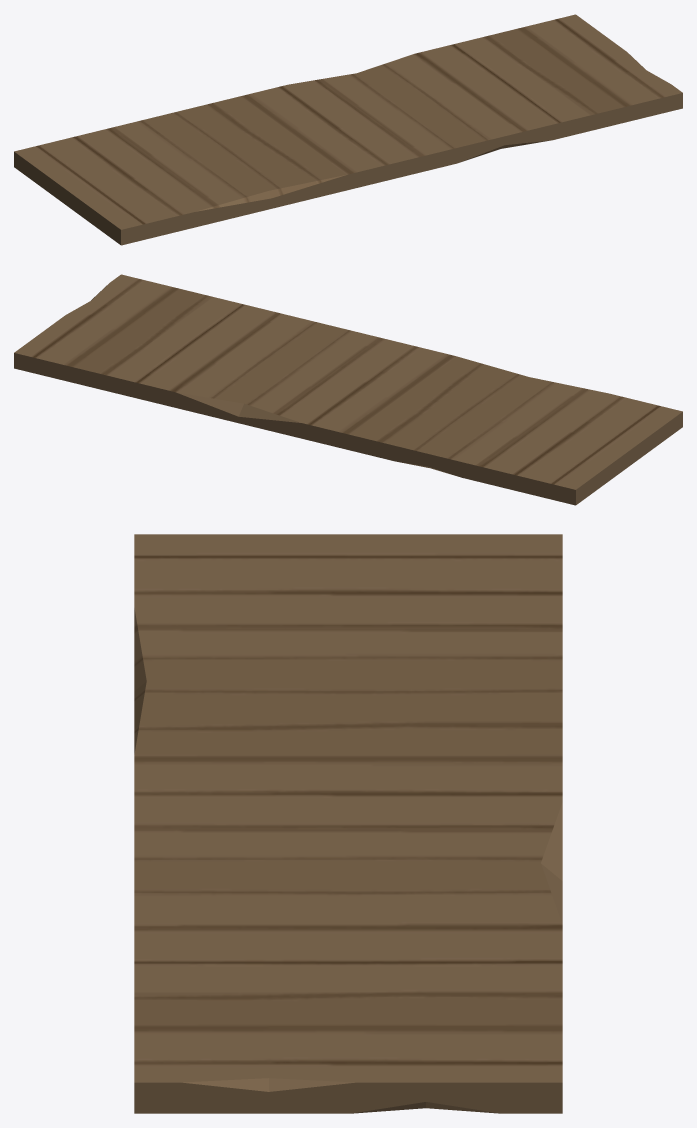
The model's file is SM_Env_Wood_02.fbx.
3 renders of one model, top to bottom at view 1: azimuth 30°, elevation 25°; view 2: azimuth 150°, elevation 25°; view 3: azimuth 270°, elevation 25°, orthographic. The views are drawn at different scales.
Visible parts, largest first — view 1: SM_Env_Wood_02; view 2: SM_Env_Wood_02; view 3: SM_Env_Wood_02.
Part boxes in pixels (x1,y1,x2,y2): SM_Env_Wood_02: [14, 14, 682, 245]; SM_Env_Wood_02: [14, 274, 682, 505]; SM_Env_Wood_02: [134, 534, 562, 1113].
Bounding box in the file's own units: 323 × 8.6 × 107.
Materials: 1 (1 with a texture image).
